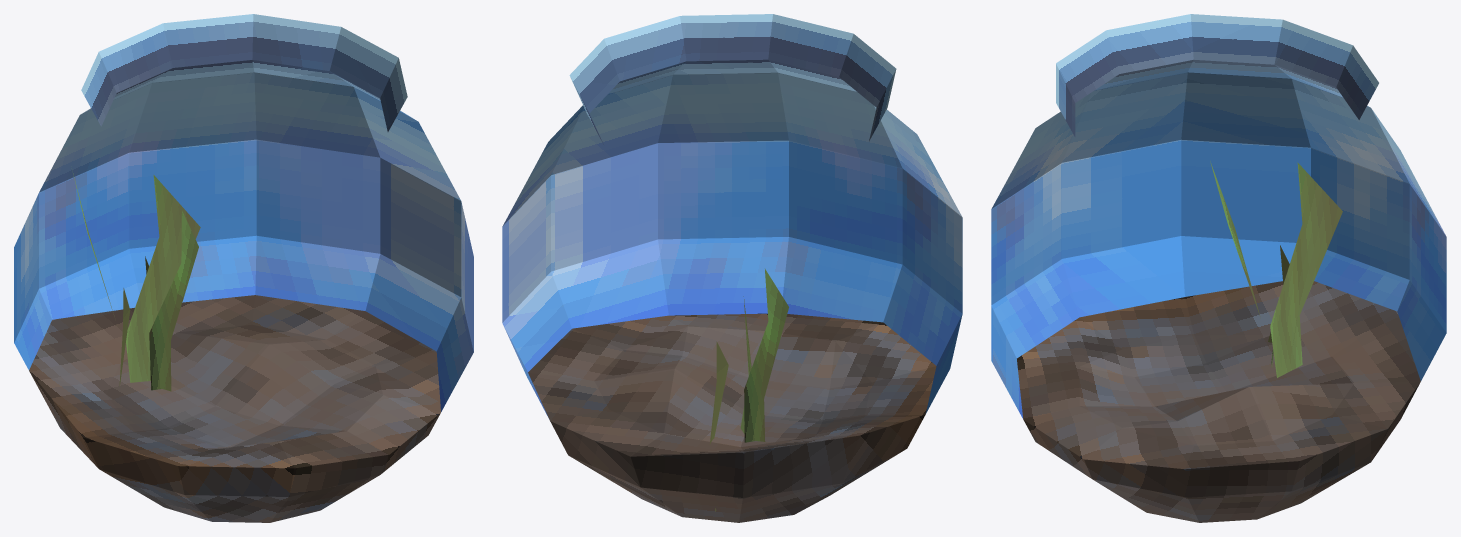
The model's file is pile-fish-bowl.glb.
3 views of the same model, side by side, from view 1: azimuth 30°, elevation 25°; view 2: azimuth 150°, elevation 25°; view 3: azimuth 270°, elevation 25° (orthographic).
Parts seen in each view (by area): view 1: pile-fish-bowl; view 2: pile-fish-bowl; view 3: pile-fish-bowl.
Part boxes in pixels (<box>): pile-fish-bowl: <box>14,14,473,522</box>; pile-fish-bowl: <box>502,14,962,522</box>; pile-fish-bowl: <box>991,14,1446,522</box>.
Size of the model in its own units: 0.5067 by 0.482 by 0.5015.
1 material, 1 textured.
